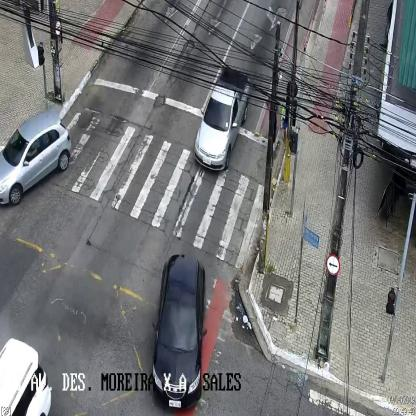car: (153, 254, 207, 407), (1, 110, 71, 202), (192, 63, 250, 170)
person: (280, 104, 289, 144)
